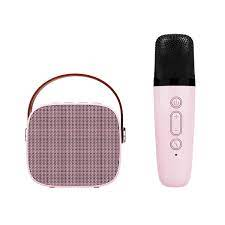microphone: (151, 32, 203, 189)
speaker: (20, 71, 133, 198)
